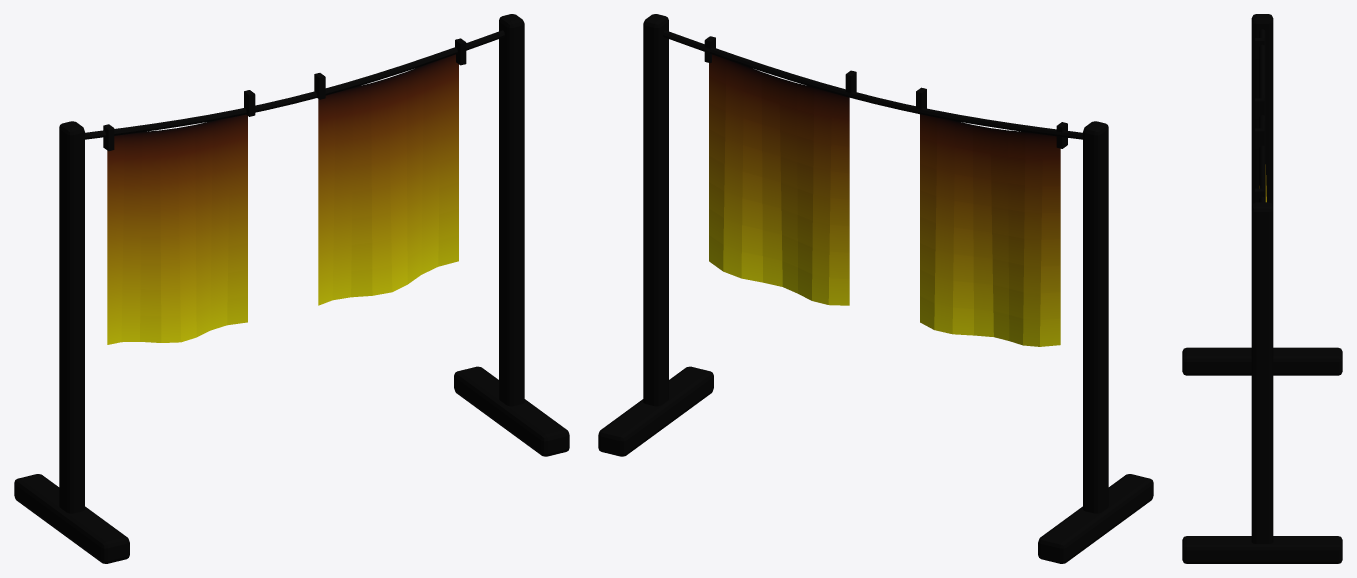
The model's file is clothesline.glb.
3 views of the same model, side by side, from view 1: azimuth 30°, elevation 25°; view 2: azimuth 150°, elevation 25°; view 3: azimuth 270°, elevation 25° (orthographic). The views are drawn at different scales.
Visible parts, largest first — view 1: cloth_sheet_1, cloth_sheet_0, rack_post, rack_post.001, rack_foot, rack_foot.001, rack_rope; view 2: cloth_sheet_1, cloth_sheet_0, rack_post, rack_post.001, rack_foot, rack_foot.001, rack_rope; view 3: rack_post.001, rack_foot.001, rack_foot, rack_post, rack_rope.
Boxes of the visible parts, x1=… form: cloth_sheet_1: x1=318, y1=54, x2=458, y2=305; cloth_sheet_0: x1=107, y1=114, x2=247, y2=344; rack_post: x1=59, y1=121, x2=84, y2=513; rack_post.001: x1=499, y1=14, x2=524, y2=406; rack_foot: x1=14, y1=474, x2=129, y2=563; rack_foot.001: x1=454, y1=366, x2=569, y2=456; rack_rope: x1=85, y1=30, x2=504, y2=139; cloth_sheet_1: x1=709, y1=54, x2=849, y2=305; cloth_sheet_0: x1=920, y1=114, x2=1060, y2=346; rack_post: x1=1083, y1=121, x2=1108, y2=513; rack_post.001: x1=643, y1=14, x2=668, y2=406; rack_foot: x1=1038, y1=474, x2=1153, y2=563; rack_foot.001: x1=598, y1=366, x2=713, y2=456; rack_rope: x1=663, y1=30, x2=1082, y2=139; rack_post.001: x1=1251, y1=202, x2=1273, y2=543; rack_foot.001: x1=1182, y1=536, x2=1342, y2=563; rack_foot: x1=1182, y1=347, x2=1342, y2=375; rack_post: x1=1251, y1=14, x2=1273, y2=205; rack_rope: x1=1259, y1=29, x2=1265, y2=202.
Bounding box in the file's own units: 2.66 × 2.2 × 0.9.
